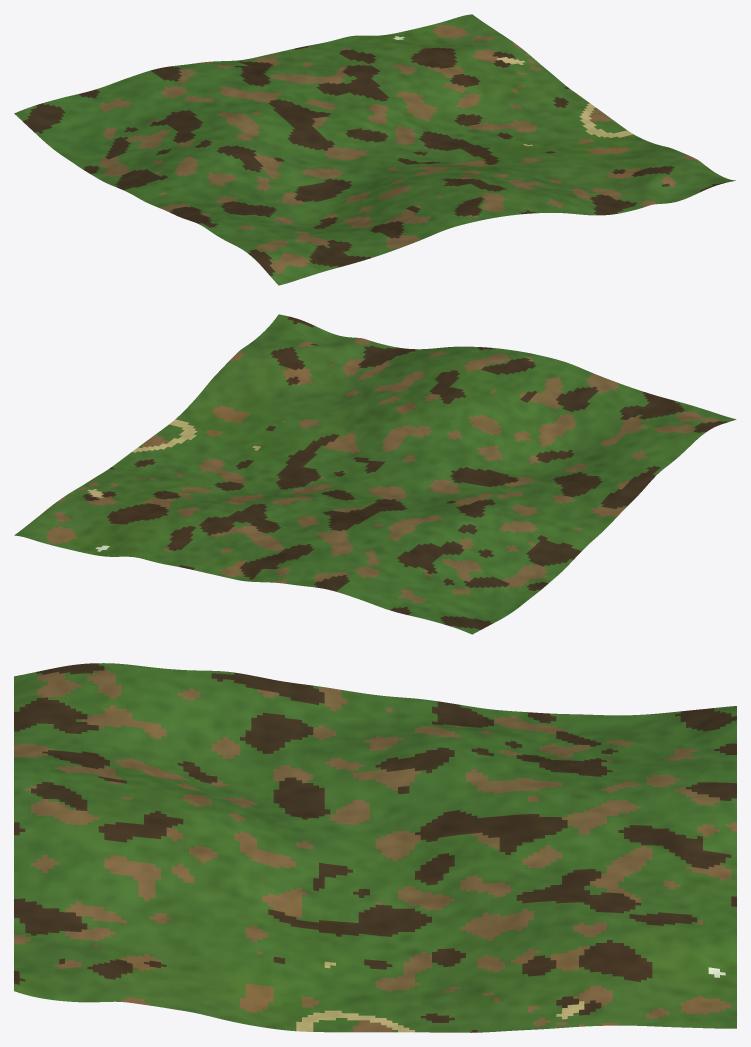
File: chunk_1_7.glb
3 renders of one model, top to bottom at view 1: azimuth 30°, elevation 25°; view 2: azimuth 150°, elevation 25°; view 3: azimuth 270°, elevation 25°, orthographic. The views are drawn at different scales.
Visible parts, largest first — view 1: Surface_Grass, Surface_Mud, Surface_Dirt, Surface_Sand; view 2: Surface_Grass, Surface_Mud, Surface_Dirt, Surface_Sand; view 3: Surface_Grass, Surface_Mud, Surface_Dirt, Surface_Sand.
Boxes of the visible parts, x1,y1,x2,y2 form: Surface_Grass: (14, 14, 735, 285); Surface_Mud: (22, 46, 725, 276); Surface_Dirt: (98, 24, 696, 274); Surface_Sand: (496, 57, 632, 146); Surface_Grass: (14, 314, 736, 634); Surface_Mud: (82, 316, 728, 629); Surface_Dirt: (45, 338, 720, 603); Surface_Sand: (87, 419, 260, 497); Surface_Grass: (14, 663, 736, 1032); Surface_Mud: (14, 663, 736, 1032); Surface_Dirt: (14, 670, 736, 1032); Surface_Sand: (296, 961, 584, 1032).
Bounding box in the file's own units: 256 × 28.54 × 256.
